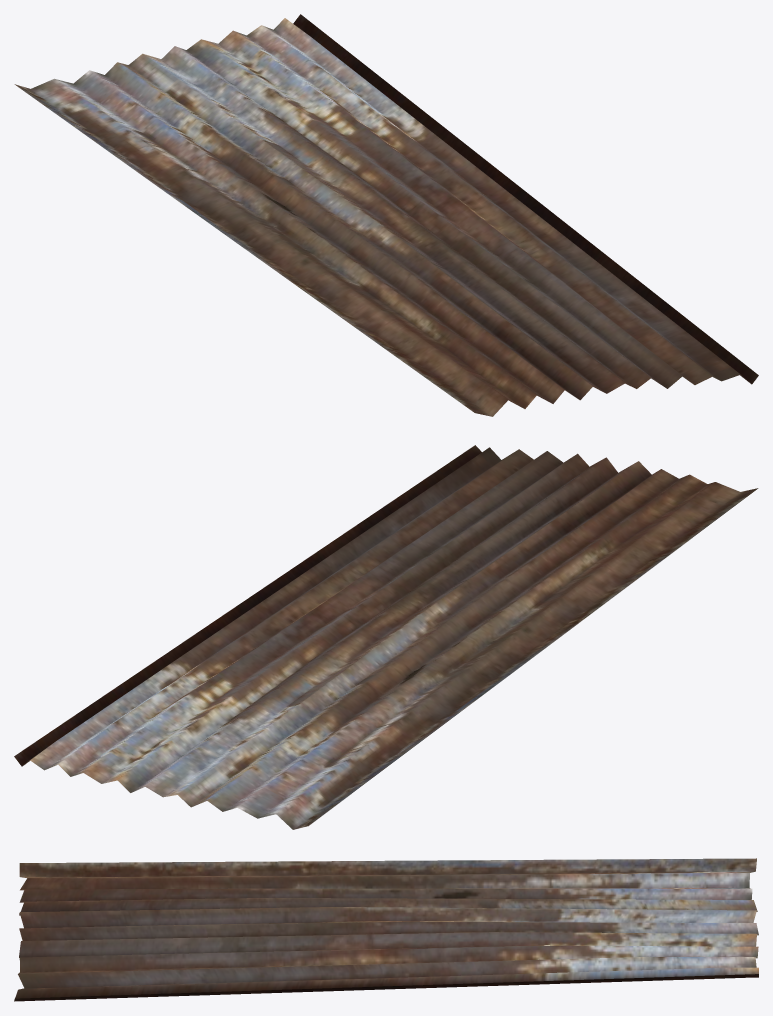
The model's file is RustedSmallSheet_02.FBX.
3 views of the same model, one above another, from view 1: azimuth 30°, elevation 25°; view 2: azimuth 150°, elevation 25°; view 3: azimuth 270°, elevation 25° (orthographic). The views are drawn at different scales.
Visible parts, largest first — view 1: RustedSmallSheet_02; view 2: RustedSmallSheet_02; view 3: RustedSmallSheet_02.
Part boxes in pixels (x1,y1,x2,y2): RustedSmallSheet_02: [14, 14, 758, 416]; RustedSmallSheet_02: [14, 445, 758, 829]; RustedSmallSheet_02: [14, 858, 758, 1001].
Bounding box in the file's own units: 74.25 × 9.68 × 202.
